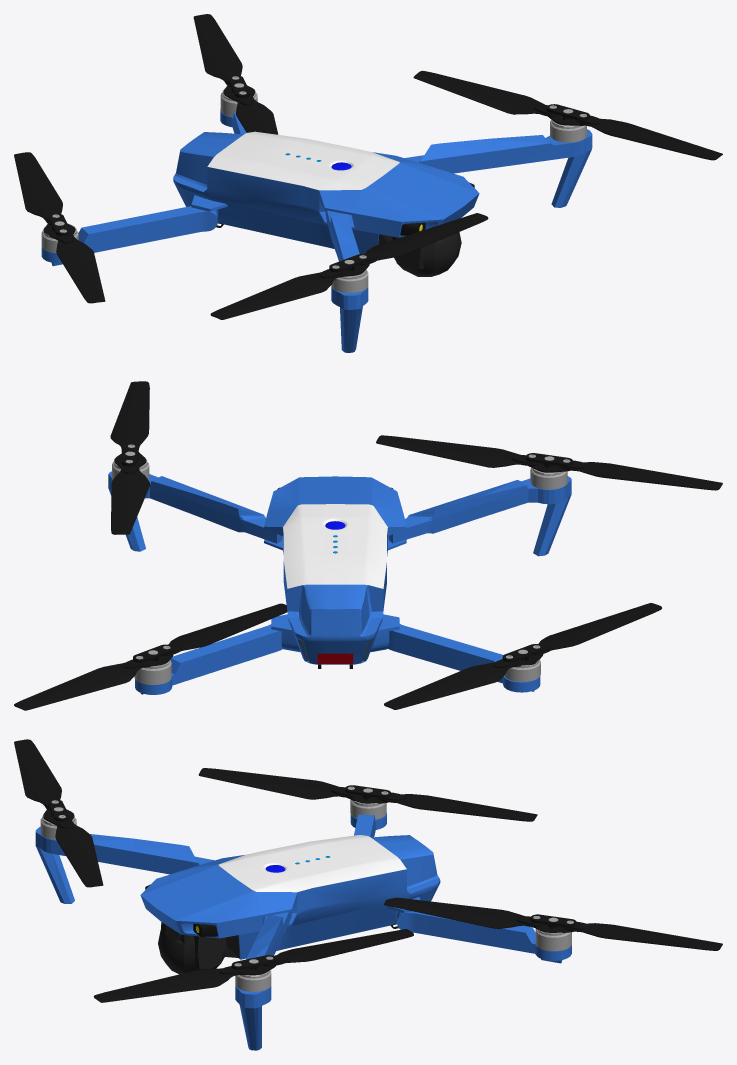
File: _drone_animado.FBX
3 renders of one model, top to bottom at view 1: azimuth 30°, elevation 25°; view 2: azimuth 150°, elevation 25°; view 3: azimuth 270°, elevation 25°, orthographic. The views are drawn at different scales.
Visible parts, largest first — view 1: Plane002, Cylinder014, Cylinder011, blade019, blade012, blade022, blade020, blade023, blade018, blade013, blade021, Cylinder023 (+3 smaller); view 2: Plane002, Cylinder011, Cylinder014, blade013, blade020, blade022, blade019, blade012, blade018, blade023, blade021, Cylinder020 (+6 smaller); view 3: Plane002, Cylinder011, Cylinder014, blade023, blade018, blade021, blade012, blade013, blade022, blade020, blade019, Cylinder017 (+6 smaller).
Part boxes in pixels (<box>): Plane002: <box>41,109,479,276</box>; Cylinder014: <box>404,129,592,207</box>; Cylinder011: <box>325,210,368,352</box>; blade019: <box>413,70,558,116</box>; blade012: <box>210,269,346,319</box>; blade022: <box>14,152,62,224</box>; blade020: <box>193,14,242,86</box>; blade023: <box>56,232,105,303</box>; blade018: <box>576,115,722,160</box>; blade013: <box>359,213,488,265</box>; blade021: <box>236,94,278,134</box>; Cylinder023: <box>546,104,589,125</box>; Plane002: <box>135,476,540,694</box>; Cylinder011: <box>388,476,571,556</box>; Cylinder014: <box>108,471,282,551</box>; blade013: <box>376,435,539,467</box>; blade020: <box>14,659,149,710</box>; blade022: <box>384,659,519,709</box>; blade019: <box>111,462,150,534</box>; blade012: <box>559,460,722,490</box>; blade018: <box>110,381,149,453</box>; blade023: <box>533,603,661,655</box>; blade021: <box>163,603,287,655</box>; Cylinder020: <box>526,453,572,472</box>; Plane002: <box>140,813,571,974</box>; Cylinder011: <box>35,826,214,903</box>; Cylinder014: <box>235,911,291,1050</box>; blade023: <box>198,768,358,799</box>; blade018: <box>93,966,247,1002</box>; blade021: <box>384,897,543,928</box>; blade012: <box>14,739,61,810</box>; blade013: <box>55,817,103,887</box>; blade022: <box>377,792,537,821</box>; blade020: <box>563,921,722,950</box>; blade019: <box>264,929,413,966</box>; Cylinder017: <box>535,929,571,951</box>.
Bounding box in the file's own units: 6.32 × 1.02 × 6.81.
